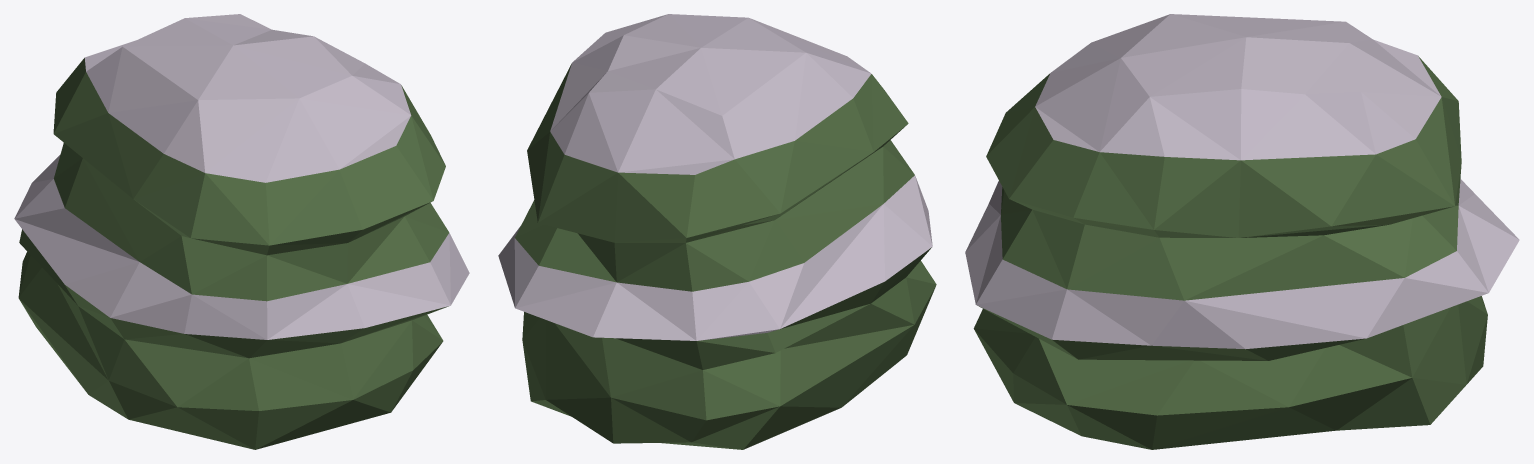
Rendered from Bush_Snow_1.lod1.glb.
The picture shows the model from 3 angles, left to right: view 1: azimuth 30°, elevation 25°; view 2: azimuth 150°, elevation 25°; view 3: azimuth 270°, elevation 25°; orthographic projection. The views are drawn at different scales.
Visible parts, largest first — view 1: Bush_Snow_1; view 2: Bush_Snow_1; view 3: Bush_Snow_1.
Part boxes in pixels (bbox=[...]): Bush_Snow_1: bbox=[14, 14, 469, 449]; Bush_Snow_1: bbox=[498, 14, 936, 449]; Bush_Snow_1: bbox=[965, 14, 1519, 449].
Bounding box in the file's own units: 1.37 × 1.27 × 1.77.
